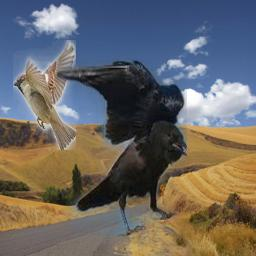Crow: (57, 59, 187, 236)
Sparrow: (13, 40, 76, 150)
